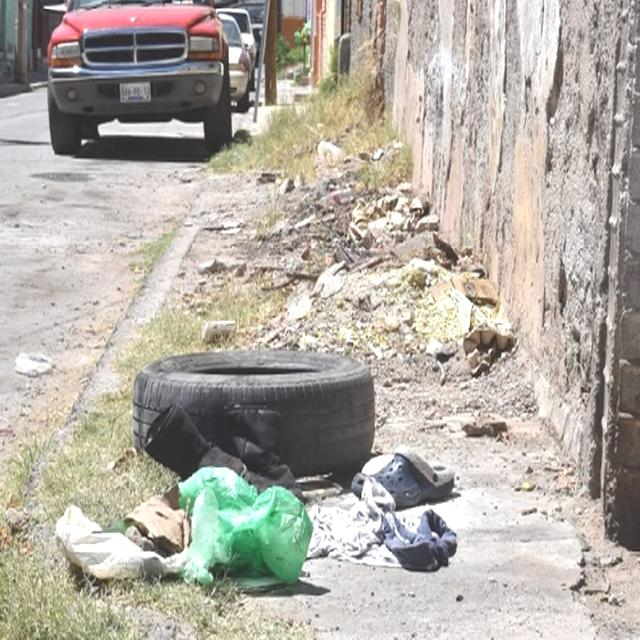garbage: (46, 311, 480, 615)
